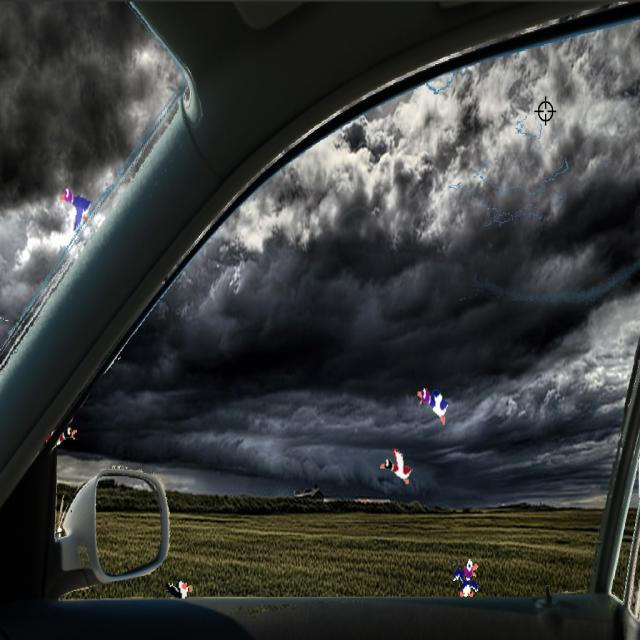duck: (414, 376, 456, 426), (56, 184, 94, 232), (376, 440, 414, 488), (46, 420, 83, 460)
falling_duck: (449, 550, 485, 597), (164, 568, 196, 600)
